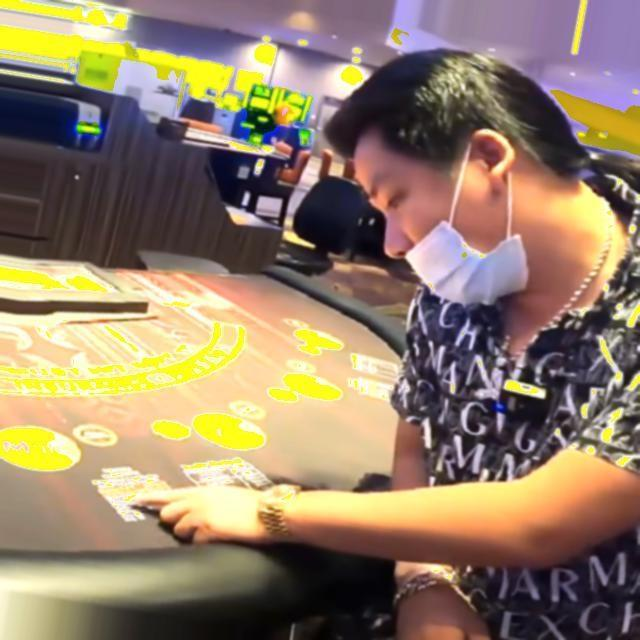hairnet: (360, 135, 530, 301)
